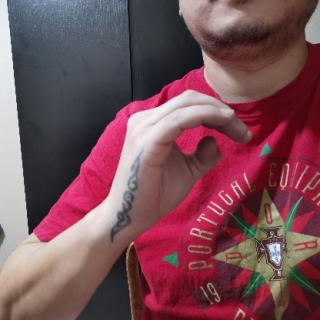JEEM: (98, 85, 255, 237)
